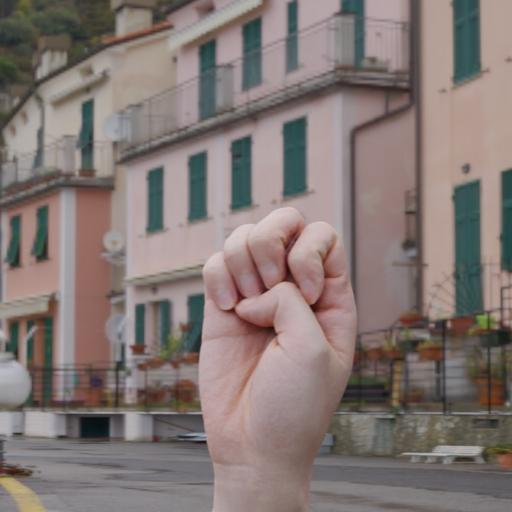E: (171, 194, 382, 462)
